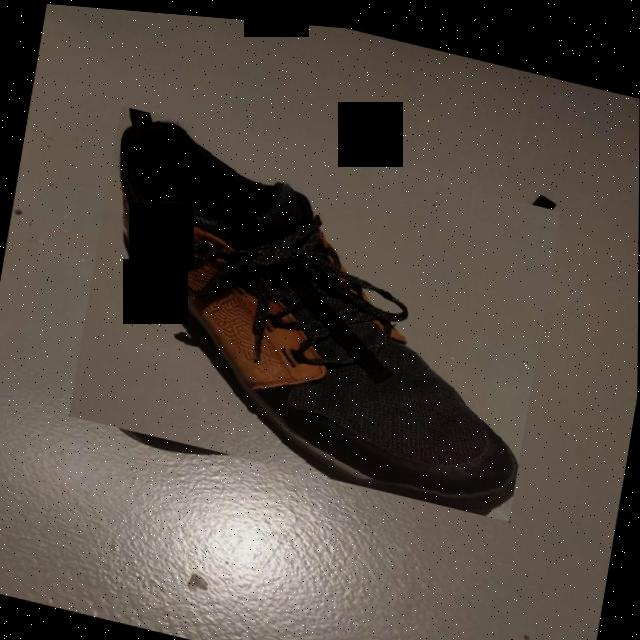shoe: (69, 101, 561, 516)
